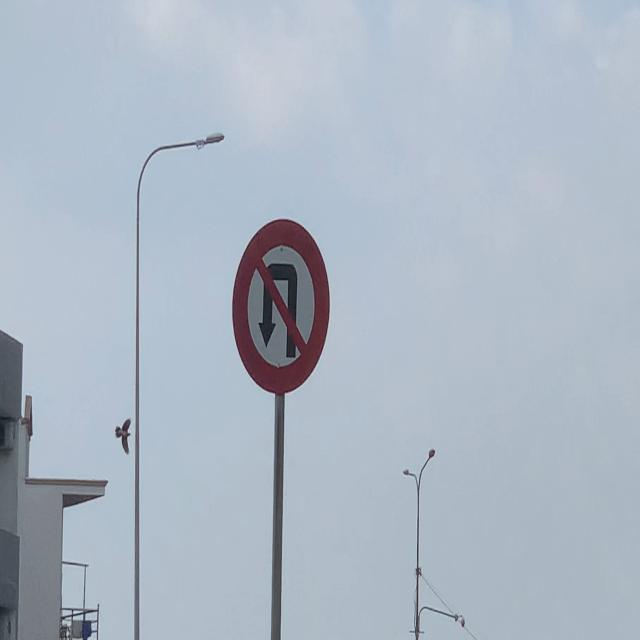Cam quay dau xe: (230, 213, 336, 403)
